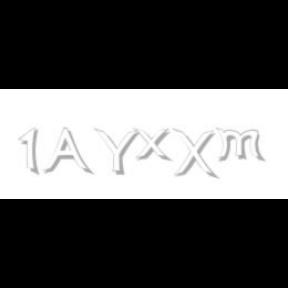1: (18, 128, 40, 176)
A: (42, 128, 90, 176)
X: (172, 128, 216, 180)
Y: (93, 128, 139, 176)
m: (214, 128, 266, 162)
x: (133, 128, 175, 162)
